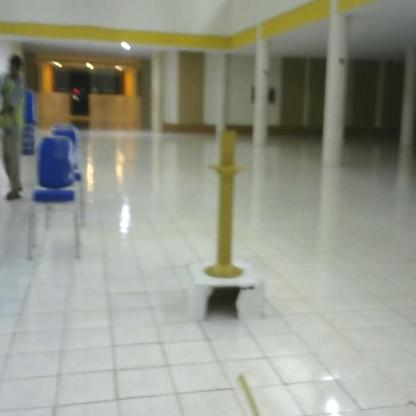pole: (205, 124, 249, 282)
